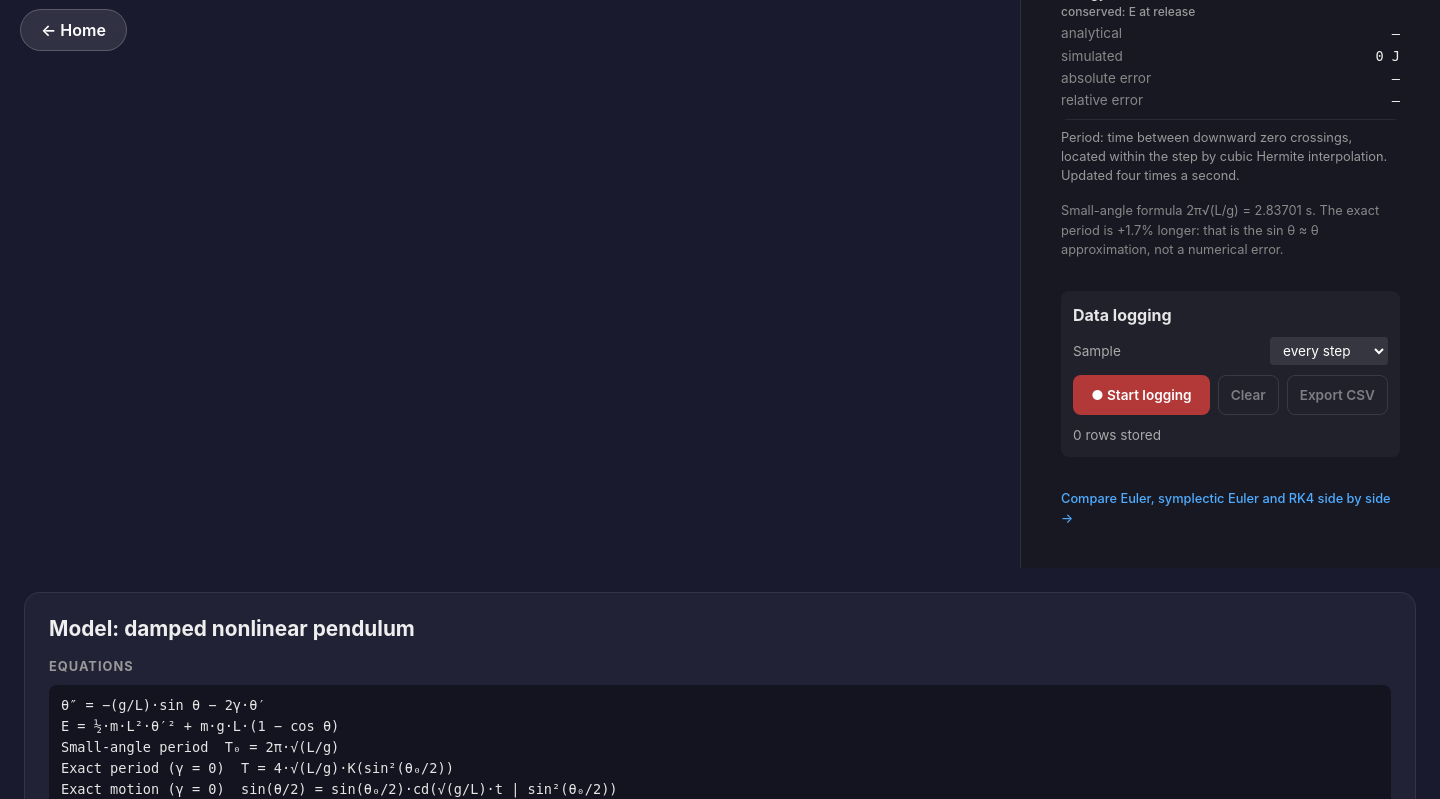
Test: the address bar follows the experiment (real App, hash routing) › keeps the data log when a guided experiment remounts the lab, and guards a reload until it is exported
This screenshot has width=1440, height=799.
(page scrolled)
Click the button "● Start logging": (1141, 395) top-left (1073, 375), bottom-right (1210, 415)
(page scrolled)
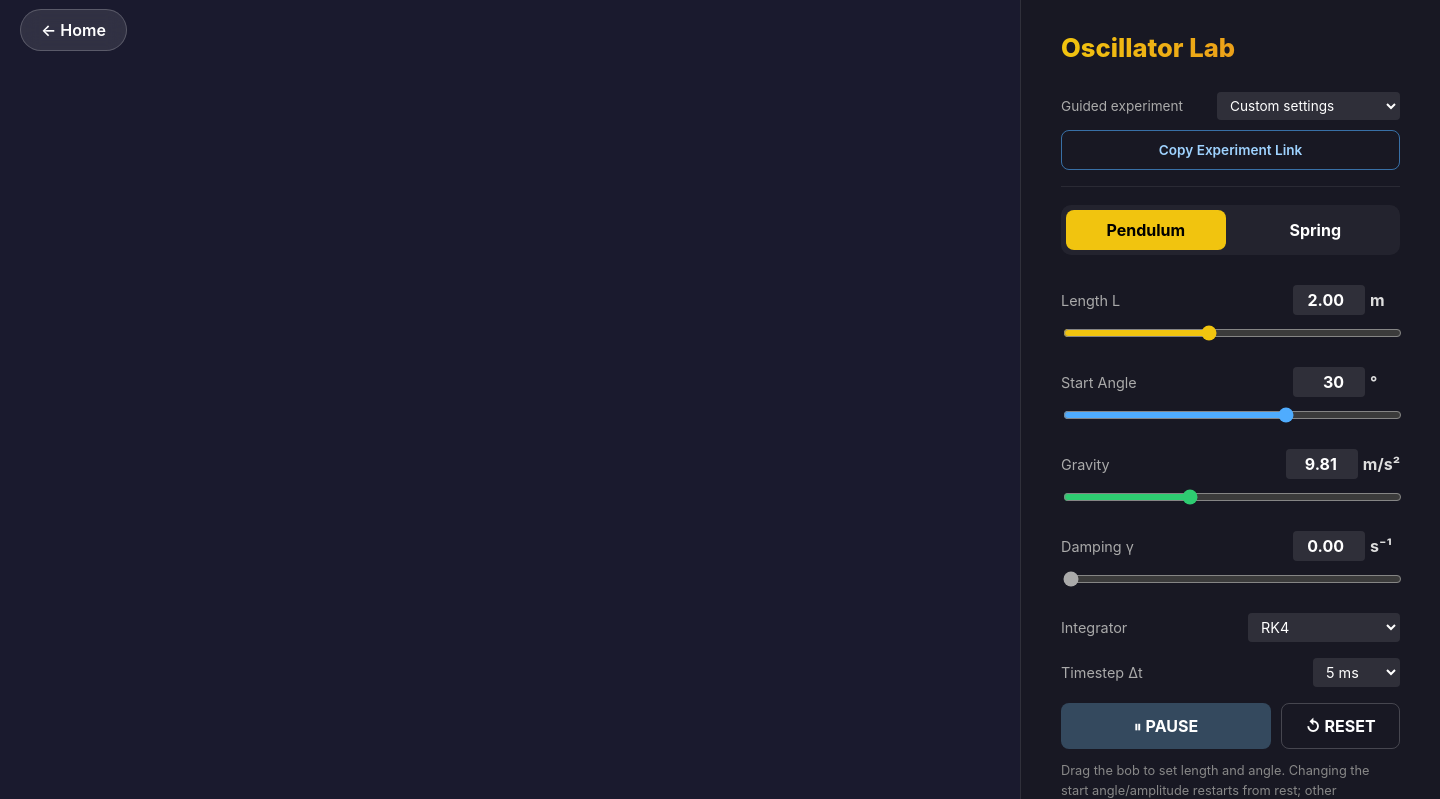
Select "Nonlinear pendulum" in the dropdown labelled "Guided experiment": (1308, 106) top-left (1217, 92), bottom-right (1400, 120)
(page scrolled)
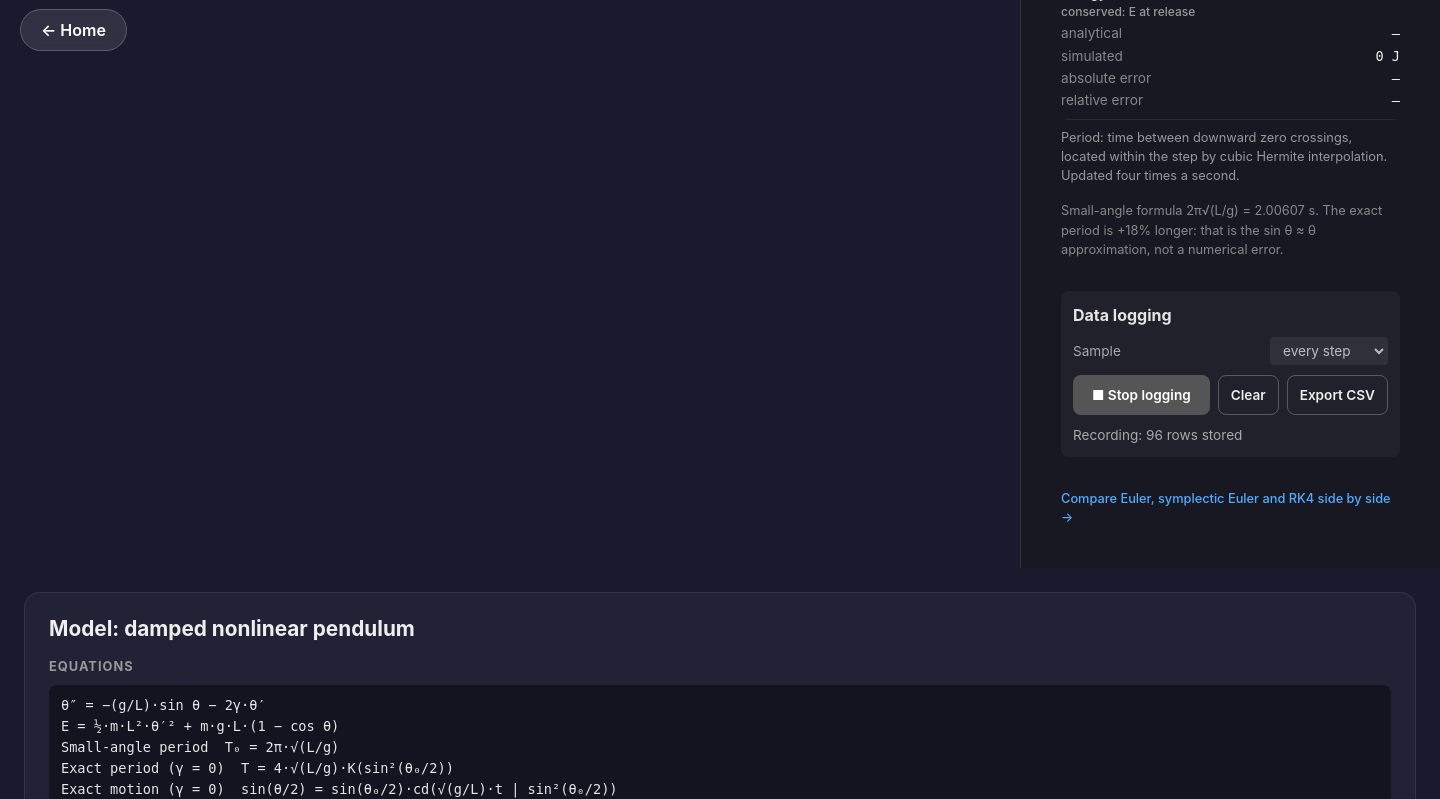
Click the button "■ Stop logging": (1141, 395) top-left (1073, 375), bottom-right (1210, 415)
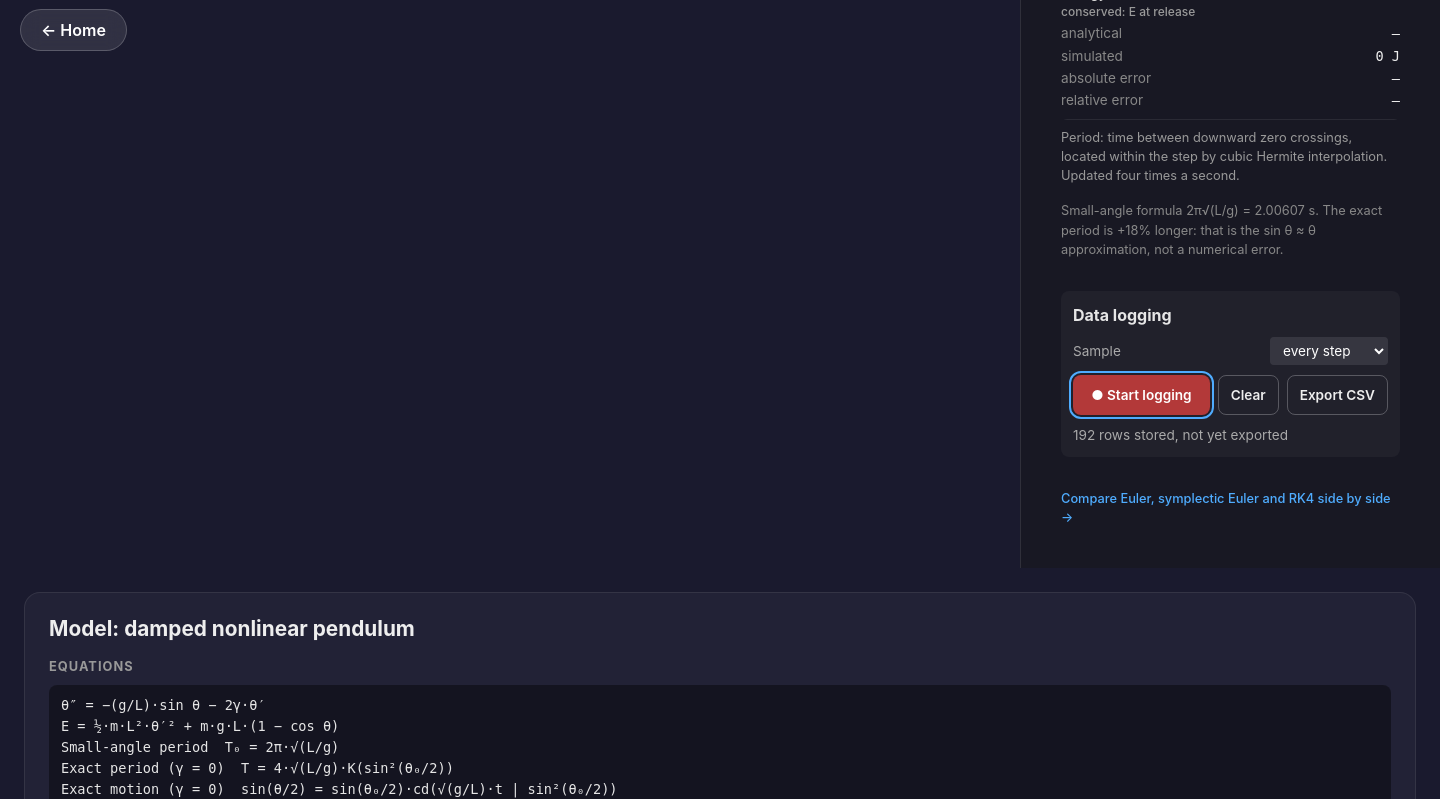
Expected: the text "192 rows stored, not yet exported" is shown, top-left (1073, 427), bottom-right (1288, 443)
Click the button "Export CSV": (1337, 395) top-left (1287, 375), bottom-right (1388, 415)
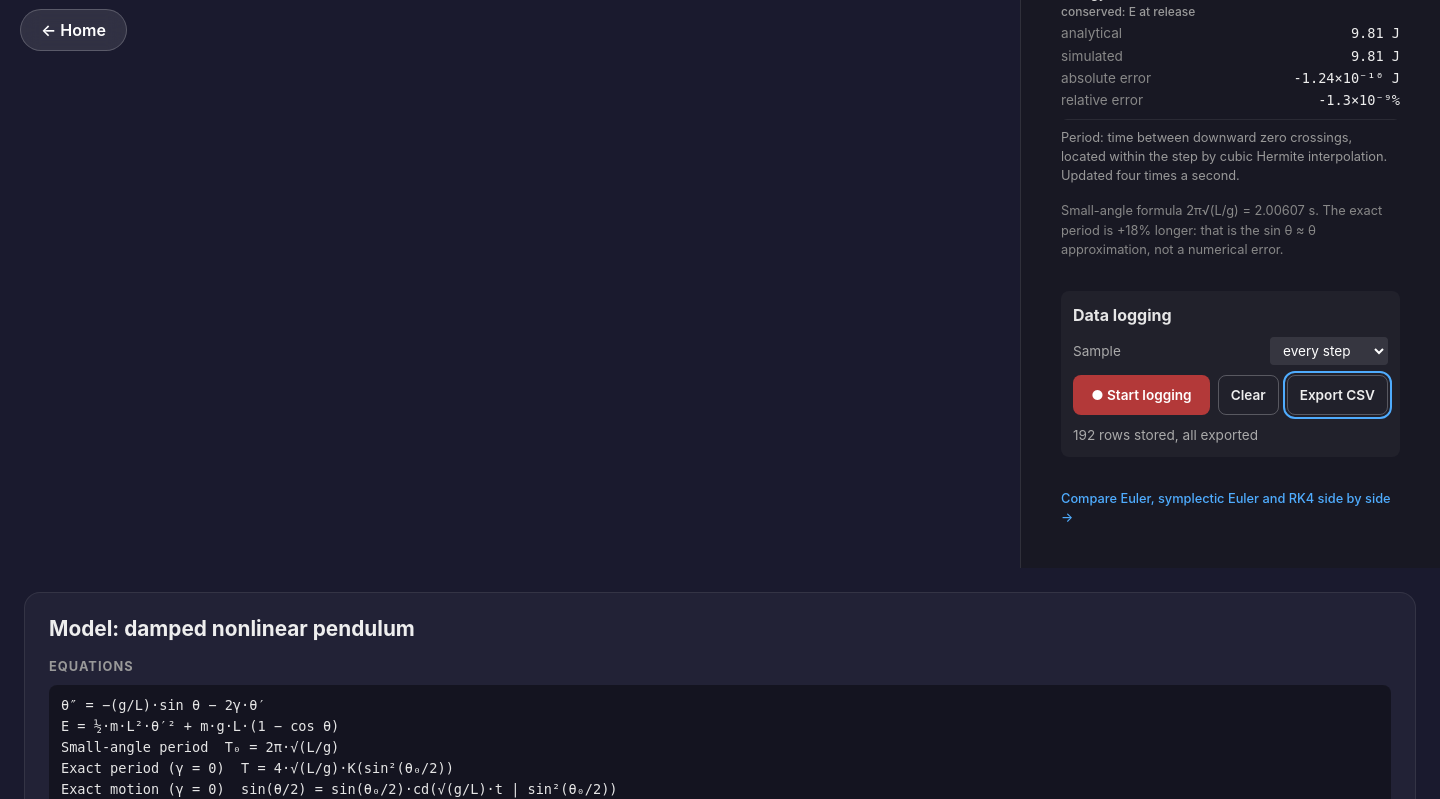
Expected: the text "192 rows stored, all exported" is shown, top-left (1073, 427), bottom-right (1258, 443)
